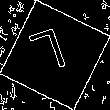L_S: (32, 26, 78, 84)
